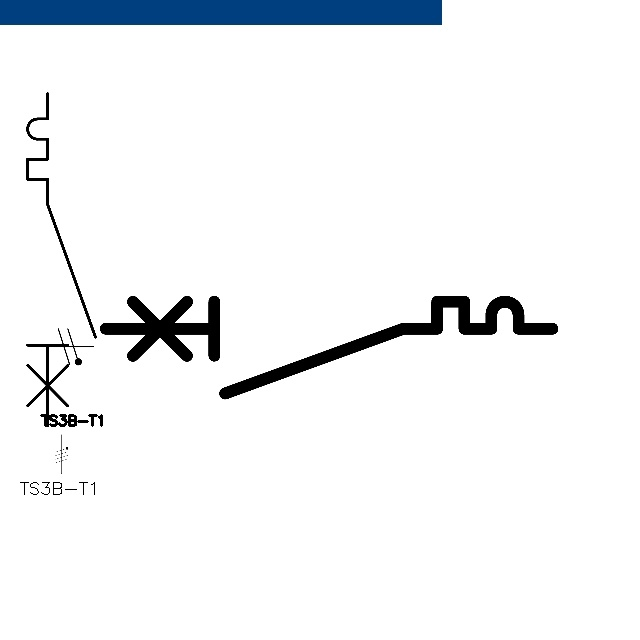interruptor_termomagnetico: (94, 290, 564, 405), (19, 85, 104, 434)
